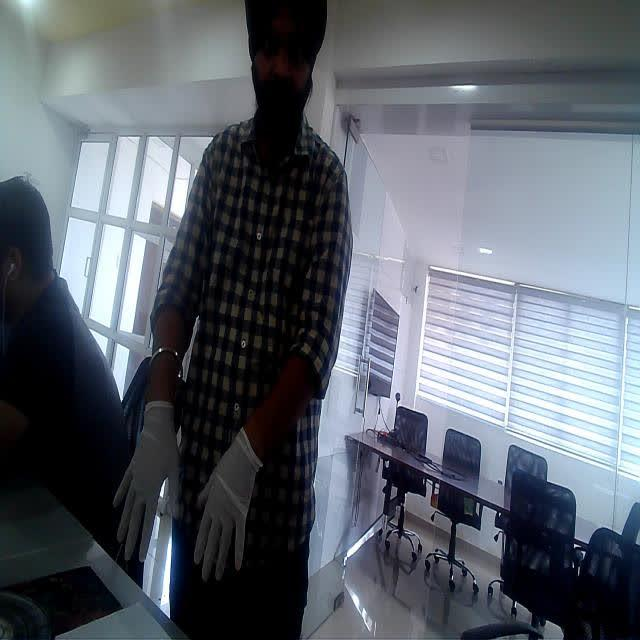with_gloves: (112, 394, 182, 568), (188, 425, 256, 596)
